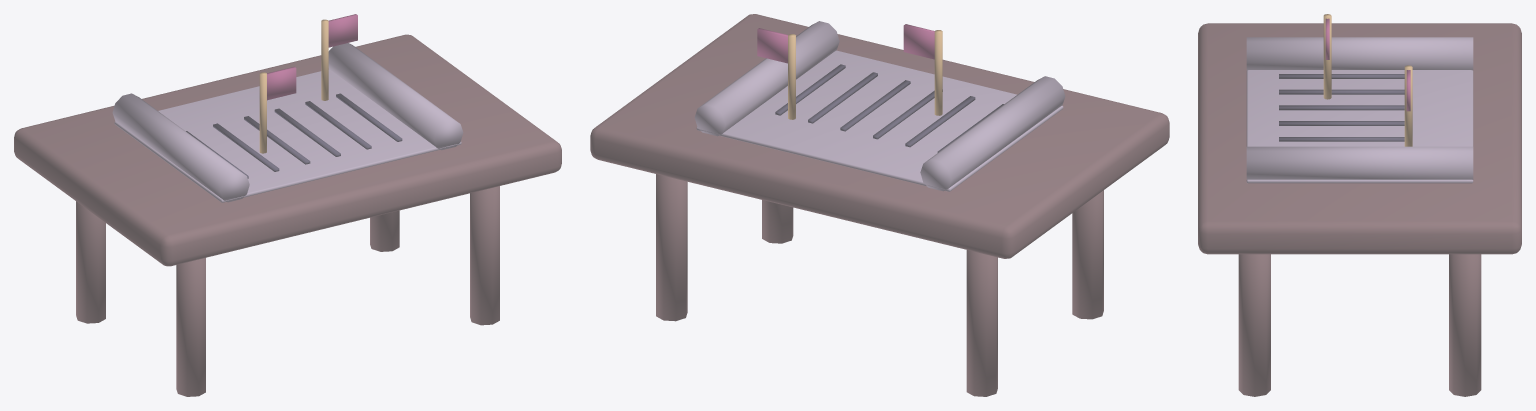
The model's file is castle_detail_war_table_cursed.glb.
The picture shows the model from 3 angles, left to right: view 1: azimuth 30°, elevation 25°; view 2: azimuth 150°, elevation 25°; view 3: azimuth 270°, elevation 25°; orthographic projection. The views are drawn at different scales.
Visible parts, largest first — view 1: castle_detail_war_table_cursed_surface; view 2: castle_detail_war_table_cursed_surface; view 3: castle_detail_war_table_cursed_surface.
Boxes of the visible parts, <box> form: castle_detail_war_table_cursed_surface: <box>14,14,561,396</box>; castle_detail_war_table_cursed_surface: <box>590,14,1169,396</box>; castle_detail_war_table_cursed_surface: <box>1198,14,1521,396</box>.
Bounding box in the file's own units: 3 × 1.9 × 2.
